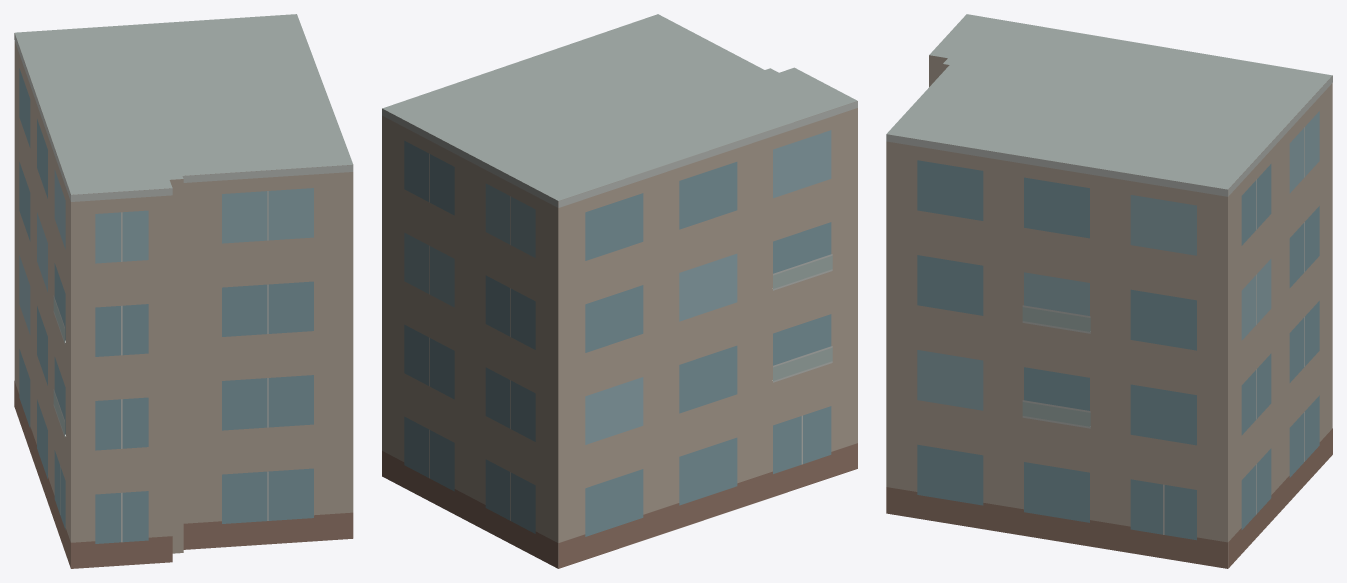
File: survey-upis-32872734.glb
3 renders of one model, left to right at view 1: azimuth 30°, elevation 25°; view 2: azimuth 150°, elevation 25°; view 3: azimuth 270°, elevation 25°, orthographic. The views are drawn at different scales.
Visible parts, largest first — view 1: survey-upis-32872734.tmp; view 2: survey-upis-32872734.tmp; view 3: survey-upis-32872734.tmp.
Boxes of the visible parts, <box> form: survey-upis-32872734.tmp: <box>14,14,353,568</box>; survey-upis-32872734.tmp: <box>382,14,857,568</box>; survey-upis-32872734.tmp: <box>886,14,1332,568</box>.
Size of the model in its own units: 12.62 by 12.7 by 13.56.
